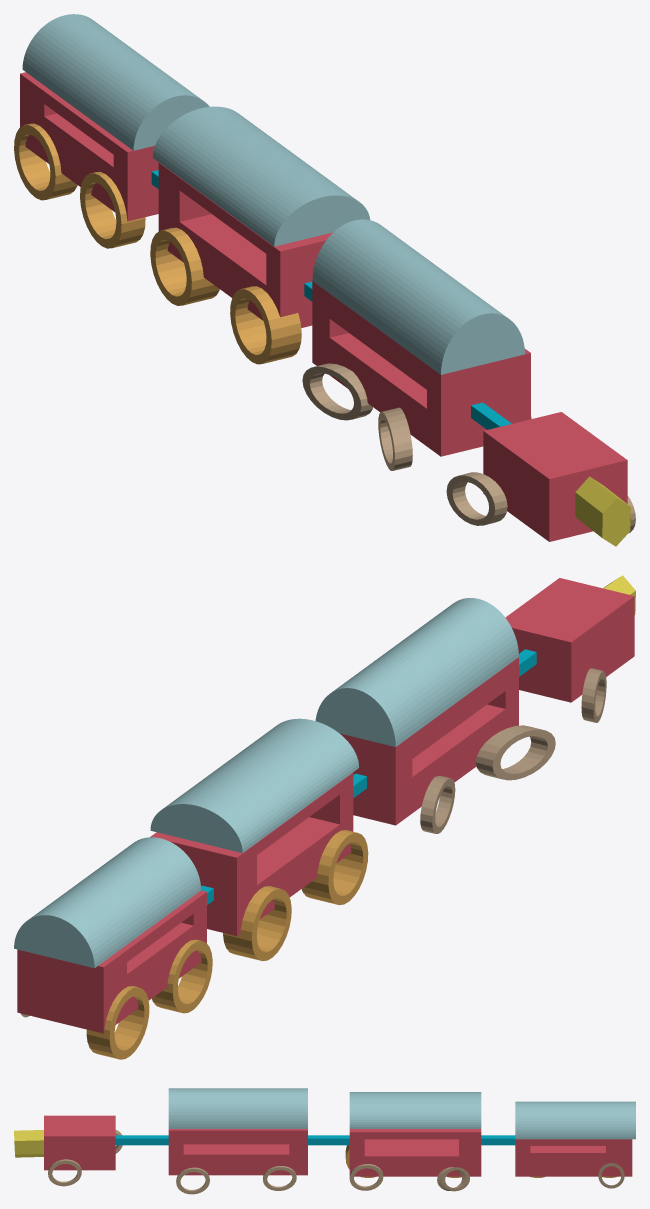
File: Tremendous Tumelo (1).glb
The picture shows the model from 3 angles, top to bottom: view 1: azimuth 30°, elevation 25°; view 2: azimuth 150°, elevation 25°; view 3: azimuth 270°, elevation 25°; orthographic projection. The views are drawn at different scales.
Visible parts, largest first — view 1: Mesh_Mesh_head_geo.001_lambert2SG.001; view 2: Mesh_Mesh_head_geo.001_lambert2SG.001; view 3: Mesh_Mesh_head_geo.001_lambert2SG.001.
Boxes of the visible parts, <box> form: Mesh_Mesh_head_geo.001_lambert2SG.001: <box>14,14,635,546</box>; Mesh_Mesh_head_geo.001_lambert2SG.001: <box>14,575,635,1059</box>; Mesh_Mesh_head_geo.001_lambert2SG.001: <box>14,1088,635,1194</box>.
Size of the model in its own units: 26 by 27 by 165.
